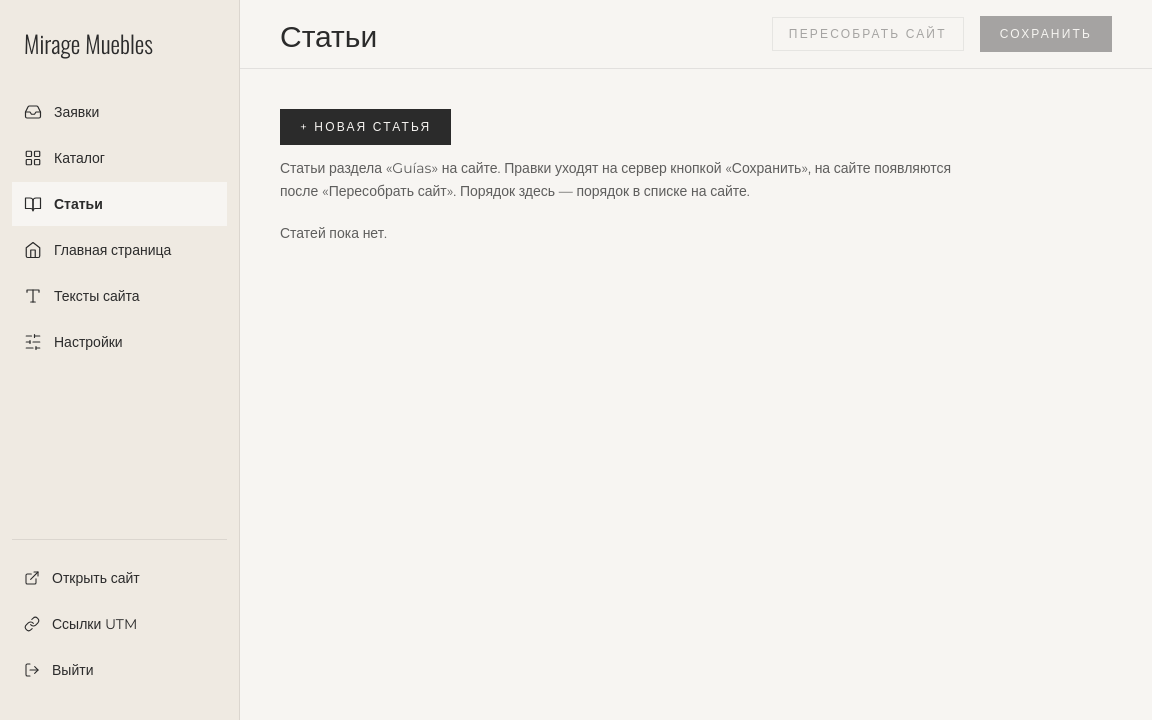
Test: Статьи › starts a new article and opens it
This screenshot has width=1152, height=720.
Click the button "+ Новая статья" at (366, 127), box [280,109,451,145]
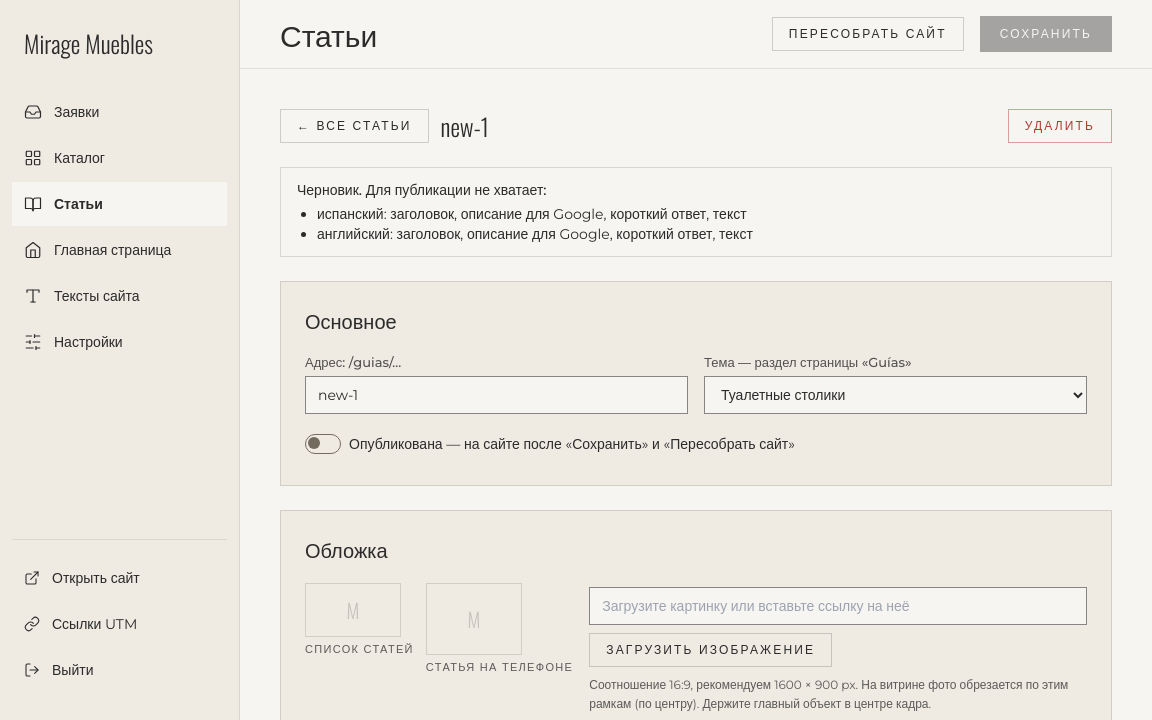
Expected: the button "← Все статьи" is shown, [280,109,429,143]
